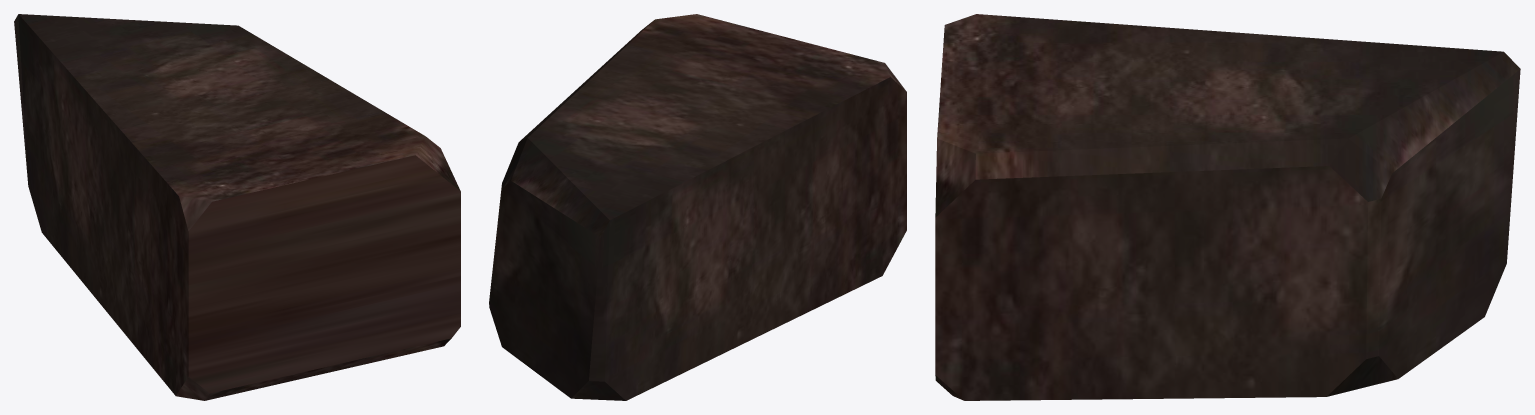
File: Bauxite.glb
3 views of the same model, side by side, from view 1: azimuth 30°, elevation 25°; view 2: azimuth 150°, elevation 25°; view 3: azimuth 270°, elevation 25° (orthographic). The views are drawn at different scales.
Parts seen in each view (by area): view 1: Bauxite; view 2: Bauxite; view 3: Bauxite.
Part boxes in pixels (box(x1,y1,x2,y2)): Bauxite: box(14, 14, 460, 400); Bauxite: box(489, 14, 906, 400); Bauxite: box(935, 14, 1520, 400).
Size of the model in its own units: 1.02 by 0.7436 by 1.66.
Materials: 1 (1 with a texture image).
